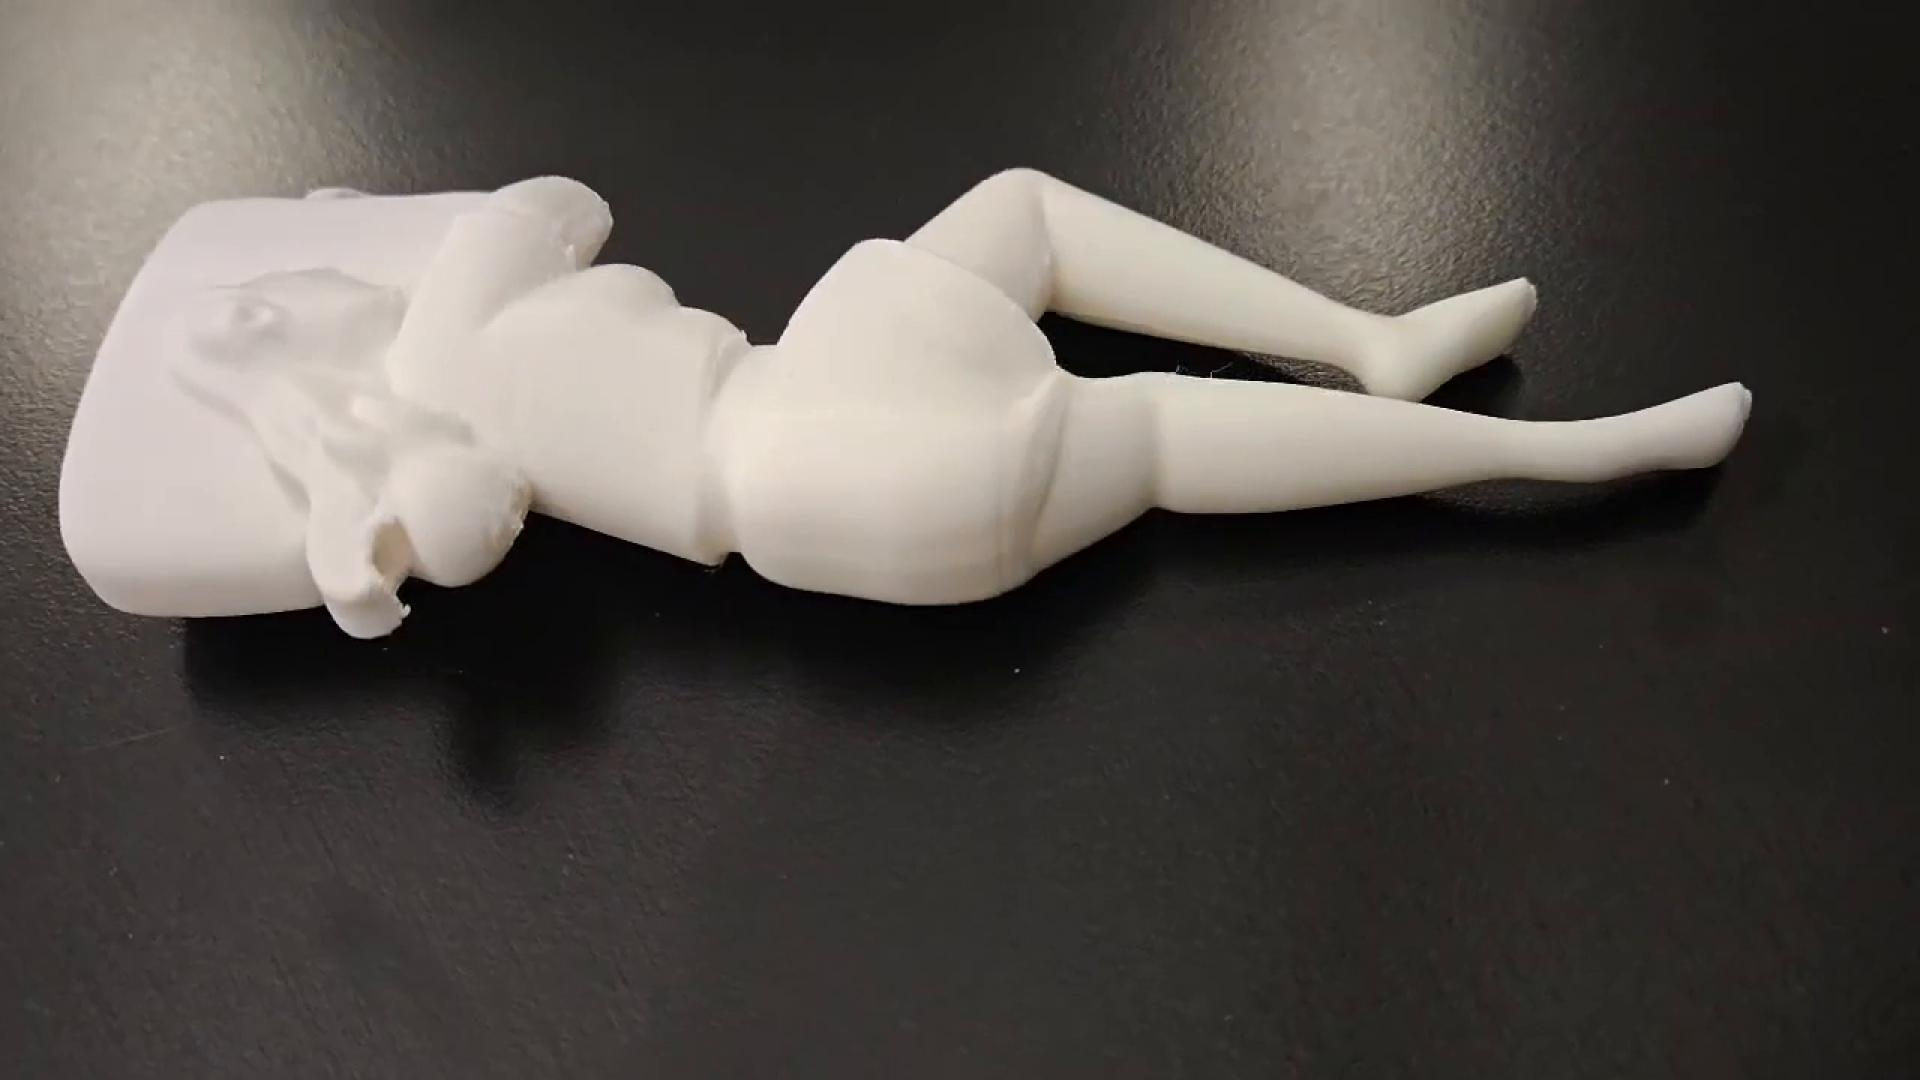Good-style: (46, 177, 1829, 691)
